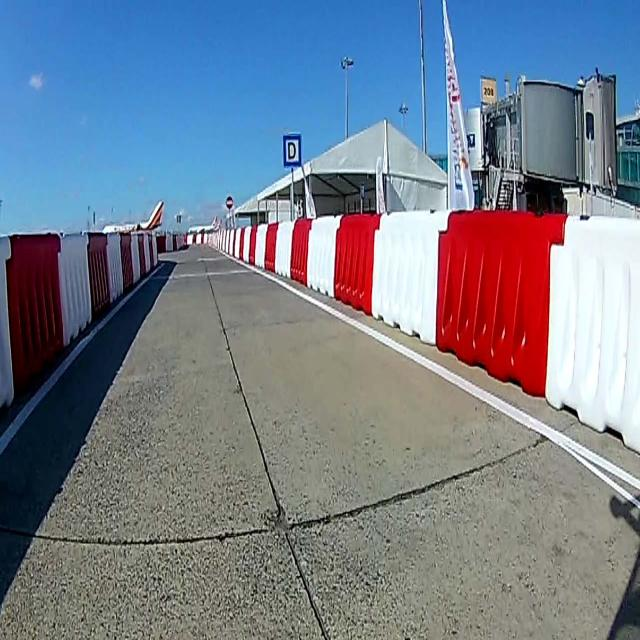durak: (282, 133, 302, 167)
girisyok: (225, 196, 233, 210)
